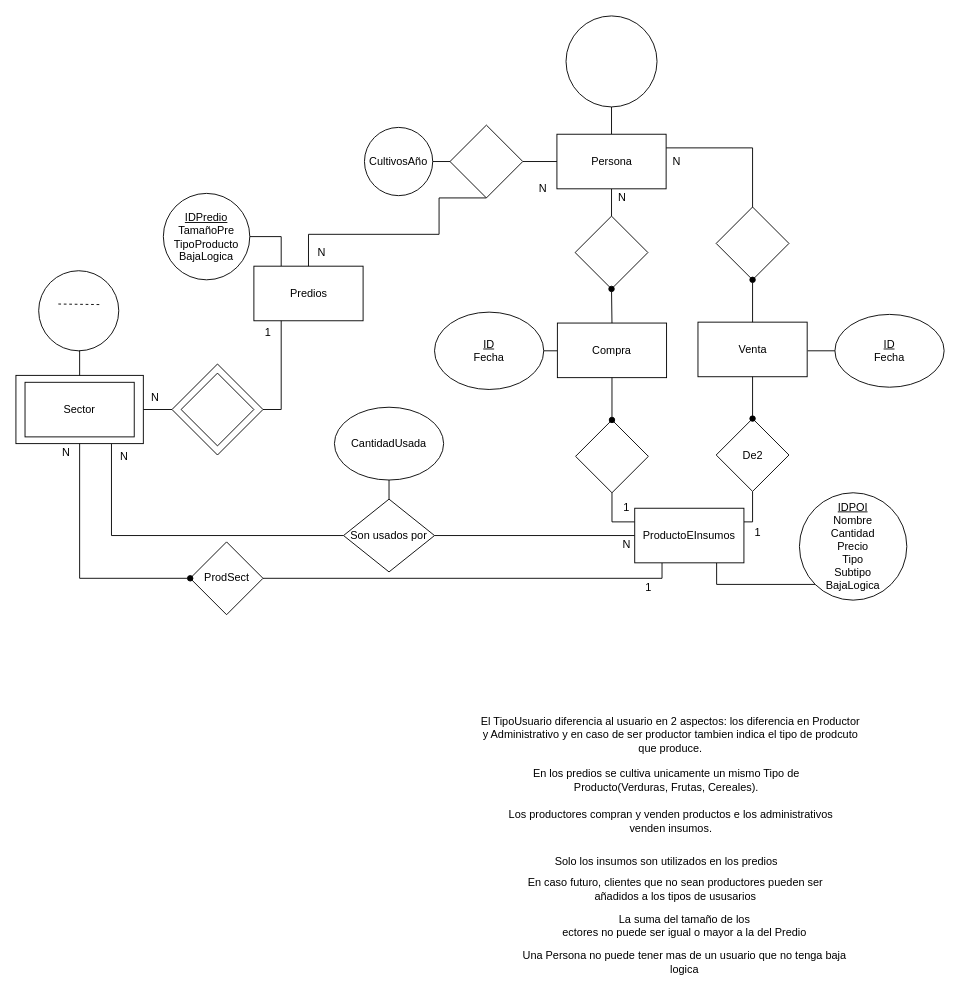
Image size: 960x991. Some labels were removed from this diagram. The shapes that lost their labels are listed below. From the top down, each one's centre as x and y in pixels, then its label:
the point at 611,61: Cedula Contraseña Nombre TipoP BajaLogica
the point at 486,161: Gestiona
the point at 611,252: Realizan
the point at 752,243: Realizan2
the point at 78,310: IDSector TamañoSec Reposo
the point at 217,409: Tiene
the point at 611,456: De
